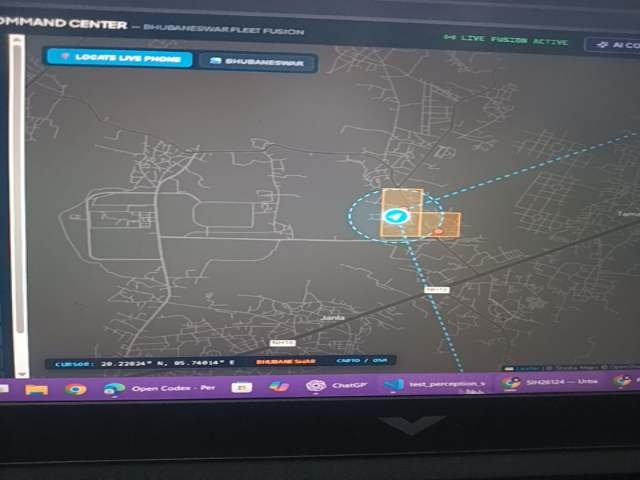pothole: (105, 404, 316, 480), (535, 404, 640, 480)
